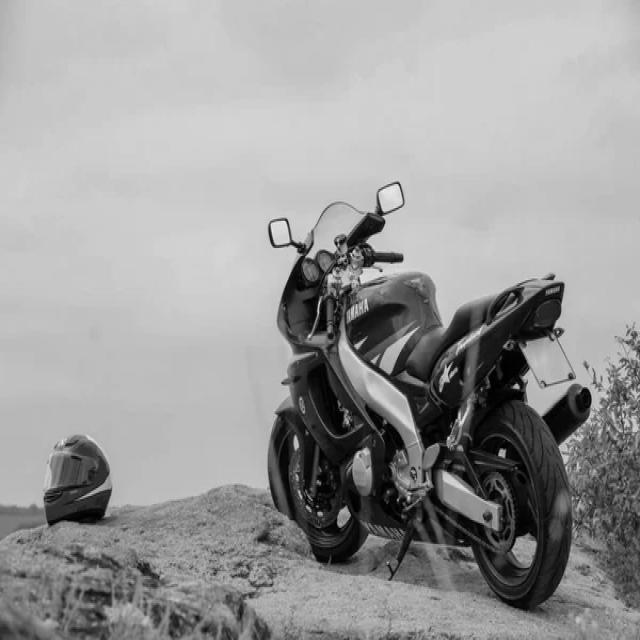Motorcycle: (268, 182, 593, 609)
